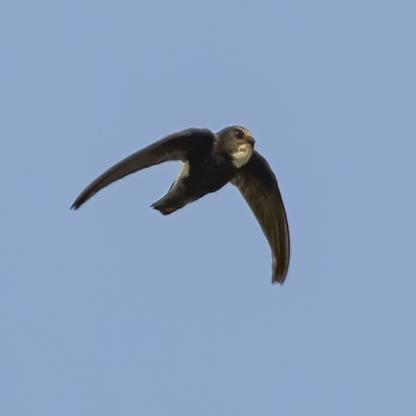Burung: (69, 124, 290, 284)
